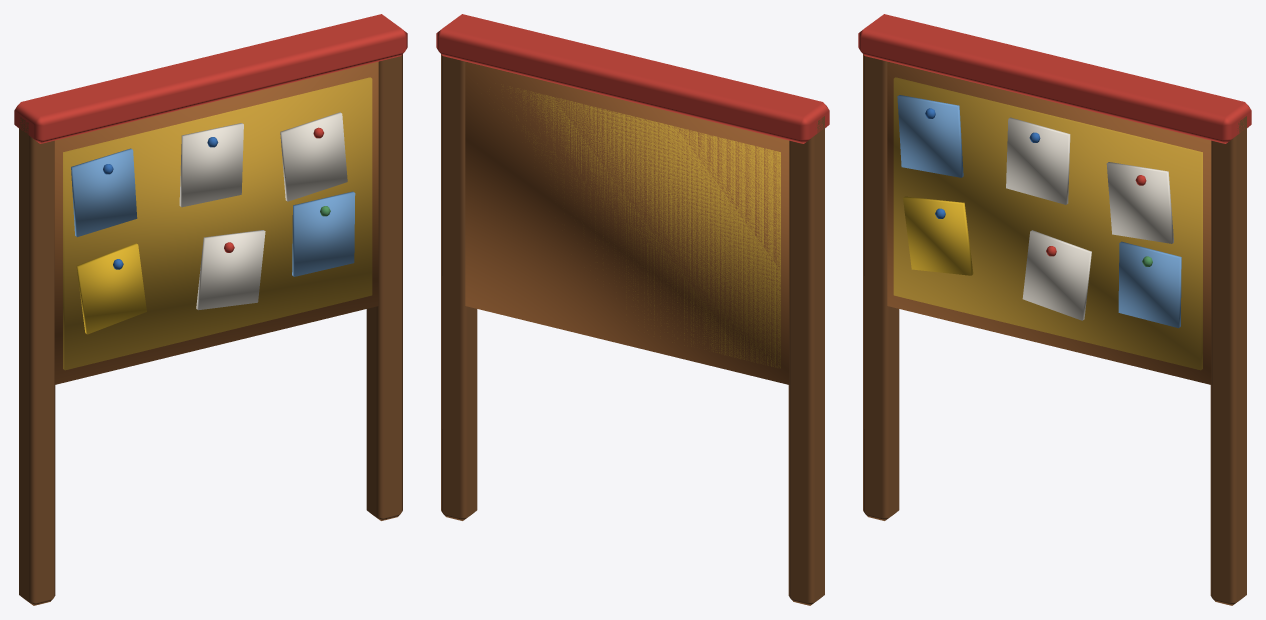
Rendered from notice_board_in.glb.
The picture shows the model from 3 angles, left to right: view 1: azimuth 30°, elevation 25°; view 2: azimuth 150°, elevation 25°; view 3: azimuth 330°, elevation 25°; orthographic projection.
Parts seen in each view (by area): view 1: notice_board_in; view 2: notice_board_in; view 3: notice_board_in.
Boxes of the visible parts, left/top/right/bottom form: notice_board_in: left=14, top=14, right=407, bottom=605; notice_board_in: left=436, top=14, right=829, bottom=605; notice_board_in: left=858, top=14, right=1251, bottom=605.
Bounding box in the file's own units: 1.12 × 1.41 × 0.14.
